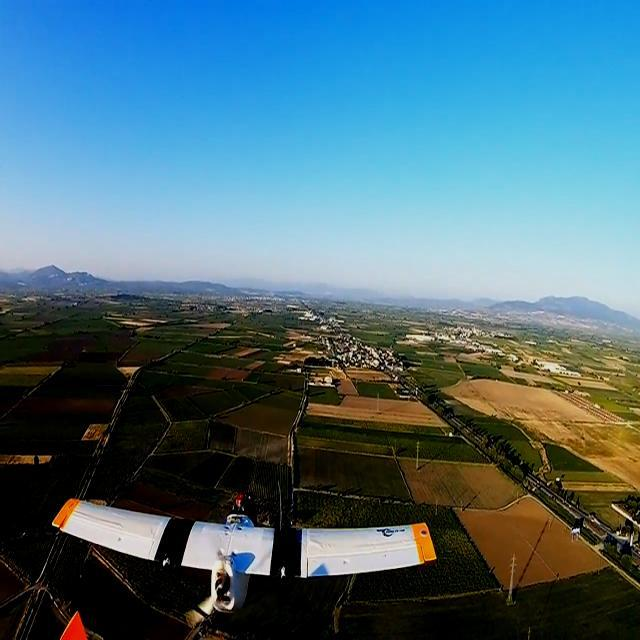iha: (49, 480, 435, 640)
